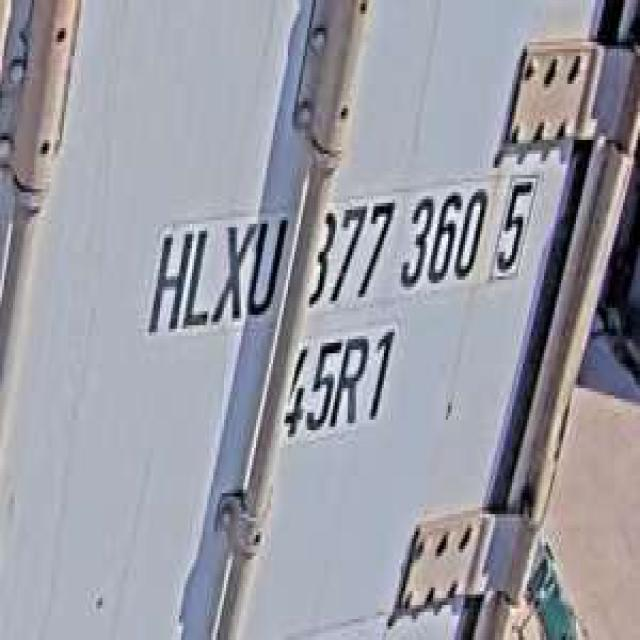dv: (490, 164, 540, 287)
owner: (139, 206, 288, 343)
serial: (303, 175, 486, 308)
size: (277, 322, 403, 441)
